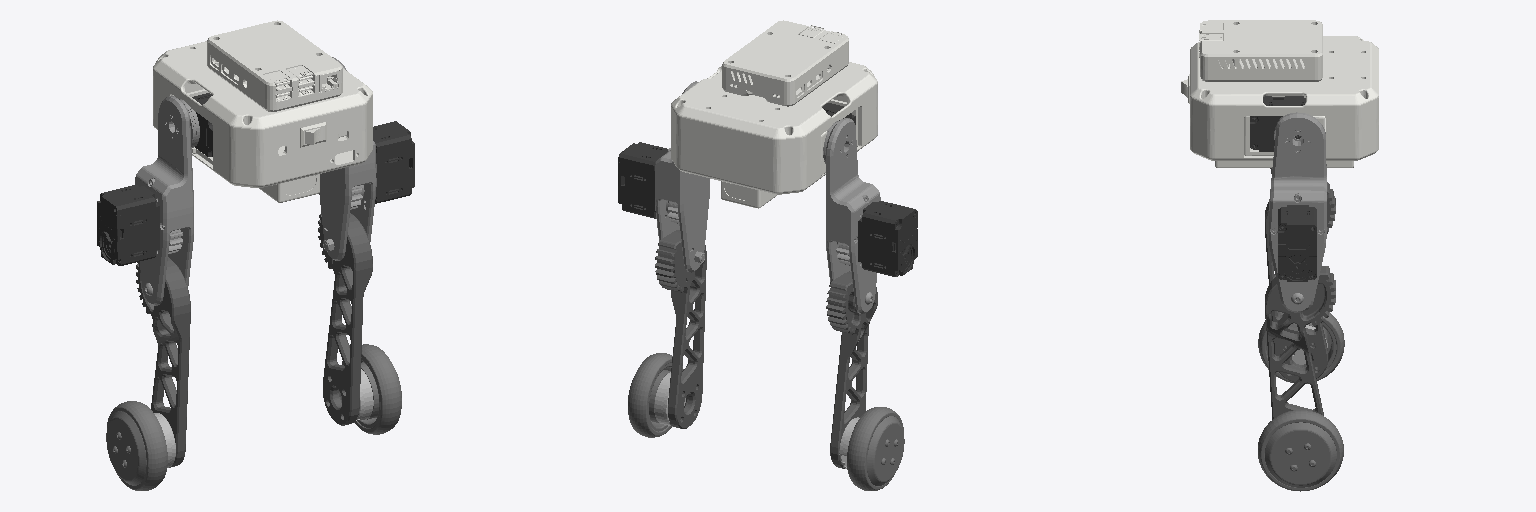
robot.urdf — bipedal_wheel:
<?xml version="1.0" encoding="utf-8"?>
<!-- This URDF was automatically created by SolidWorks to URDF Exporter! Originally created by [author] ([email redacted]) 
     Commit Version: 1.6.0-1-g15f4949  Build Version: 1.6.7594.29634
     For more information, please see http://wiki.ros.org/sw_urdf_exporter -->
<robot
  name="bipedal_wheel">
  <mujoco>
      <compiler
      meshdir = "../meshes/"
      balanceinertia = "true"
      discardvisual = "false" />
  </mujoco>
  
  <link name="world">
    <inertial>
      <mass value="0" />
      <inertia ixx="0" iyy="0" izz="0" ixy="0" ixz="0" iyz="0" />
    </inertial>
  </link>
  <link
    name="base_link">
    <inertial>
      <origin
        xyz="-0.043035 0.046782 -0.022543"
        rpy="0 0 0" />
      <mass
        value="0.8042" />
      <inertia
        ixx="0.00051005"
        ixy="7.4799E-07"
        ixz="1.5399E-07"
        iyy="0.00026894"
        iyz="1.1196E-06"
        izz="0.00074112" />
    </inertial>
    <visual>
      <origin
        xyz="0 0 0"
        rpy="0 0 0" />
      <geometry>
        <mesh
          filename="../meshes/base_link.STL" />
      </geometry>
      <material
        name="">
        <color
          rgba="0.92549 0.92549 0.90588 1" />
      </material>
    </visual>
    <collision>
      <origin
        xyz="0 0 0"
        rpy="0 0 0" />
      <geometry>
        <mesh
          filename="../meshes/base_link.STL" />
      </geometry>
    </collision>
  </link>

  <joint name="floating_base" type="floating">
    <parent link="world" />
    <child link="base_link" />
  </joint>

  <link
    name="FixMotor1">
    <inertial>
      <origin
        xyz="0.010976 -0.023825 1.6242E-05"
        rpy="0 0 0" />
      <mass
        value="0.0548" />
      <inertia
        ixx="9.9449E-06"
        ixy="1.213E-08"
        ixz="-5.3186E-10"
        iyy="4.0845E-06"
        iyz="3.4715E-09"
        izz="8.4884E-06" />
    </inertial>
    <visual>
      <origin
        xyz="0 0 0"
        rpy="0 0 0" />
      <geometry>
        <mesh
          filename="package://bipedal10.2/meshes/FixMotor1.STL" />
      </geometry>
      <material
        name="">
        <color
          rgba="0.29804 0.29804 0.29804 1" />
      </material>
    </visual>
    <collision>
      <origin
        xyz="0 0 0"
        rpy="0 0 0" />
      <geometry>
        <mesh
          filename="package://bipedal10.2/meshes/FixMotor1.STL" />
      </geometry>
    </collision>
  </link>
  <joint
    name="fix1"
    type="fixed">
    <origin
      xyz="-0.092323 0.070189 -0.020612"
      rpy="0 0 0" />
    <parent
      link="base_link" />
    <child
      link="FixMotor1" />
    <axis
      xyz="0 0 0" />
  </joint>
  <link
    name="FixMotor3">
    <inertial>
      <origin
        xyz="1.6242E-05 -0.023825 -0.010976"
        rpy="0 0 0" />
      <mass
        value="0.0548" />
      <inertia
        ixx="8.4884E-06"
        ixy="3.4715E-09"
        ixz="5.3186E-10"
        iyy="4.0845E-06"
        iyz="-1.213E-08"
        izz="9.9449E-06" />
    </inertial>
    <visual>
      <origin
        xyz="0 0 0"
        rpy="0 0 0" />
      <geometry>
        <mesh
          filename="package://bipedal10.2/meshes/FixMotor3.STL" />
      </geometry>
      <material
        name="">
        <color
          rgba="0.29804 0.29804 0.29804 1" />
      </material>
    </visual>
    <collision>
      <origin
        xyz="0 0 0"
        rpy="0 0 0" />
      <geometry>
        <mesh
          filename="package://bipedal10.2/meshes/FixMotor3.STL" />
      </geometry>
    </collision>
  </link>
  <joint
    name="fix3"
    type="fixed">
    <origin
      xyz="0.0060771 0.070189 -0.020612"
      rpy="0 1.5708 0" />
    <parent
      link="base_link" />
    <child
      link="FixMotor3" />
    <axis
      xyz="0 0 0" />
  </joint>
  <link
    name="R1">
    <inertial>
      <origin
        xyz="0.00025807 -0.0022112 -0.054813"
        rpy="0 0 0" />
      <mass
        value="0.044" />
      <inertia
        ixx="5.9272E-05"
        ixy="-9.8922E-10"
        ixz="-1.0171E-06"
        iyy="6.6118E-05"
        iyz="-8.6352E-08"
        izz="7.9954E-06" />
    </inertial>
    <visual>
      <origin
        xyz="0 0 0"
        rpy="0 0 0" />
      <geometry>
        <mesh
          filename="package://bipedal10.2/meshes/R1.STL" />
      </geometry>
      <material
        name="">
        <color
          rgba="0.62745 0.62745 0.62745 1" />
      </material>
    </visual>
    <collision>
      <origin
        xyz="0 0 0"
        rpy="0 0 0" />
      <geometry>
        <mesh
          filename="package://bipedal10.2/meshes/R1.STL" />
      </geometry>
    </collision>
  </link>
  <joint
    name="R1"
    type="revolute">
    <origin
      xyz="0.024227 0.059189 -0.020612"
      rpy="0 0 1.5708" />
    <parent
      link="base_link" />
    <child
      link="R1" />
    <axis
      xyz="0 1 0" />
    <limit
      lower="0"
      upper="0"
      effort="0"
      velocity="0" />
  </joint>
  <link
    name="FixMotor4">
    <inertial>
      <origin
        xyz="1.5744E-05 -0.023378 -0.010388"
        rpy="0 0 0" />
      <mass
        value="0.0548" />
      <inertia
        ixx="8.5302E-06"
        ixy="3.4485E-09"
        ixz="5.3228E-10"
        iyy="4.1264E-06"
        iyz="-1.2131E-08"
        izz="1.0022E-05" />
    </inertial>
    <visual>
      <origin
        xyz="0 0 0"
        rpy="0 0 0" />
      <geometry>
        <mesh
          filename="package://bipedal10.2/meshes/FixMotor4.STL" />
      </geometry>
      <material
        name="">
        <color
          rgba="0.29804 0.29804 0.29804 1" />
      </material>
    </visual>
    <collision>
      <origin
        xyz="0 0 0"
        rpy="0 0 0" />
      <geometry>
        <mesh
          filename="package://bipedal10.2/meshes/FixMotor4.STL" />
      </geometry>
    </collision>
  </link>
  <joint
    name="fix4"
    type="fixed">
    <origin
      xyz="-0.00028834 -0.024 -0.0905"
      rpy="-1.5708 0.0031861 0" />
    <parent
      link="R1" />
    <child
      link="FixMotor4" />
    <axis
      xyz="0 0 0" />
  </joint>
  <link
    name="R2">
    <inertial>
      <origin
        xyz="9.9185E-05 0.0067556 -0.044274"
        rpy="0 0 0" />
      <mass
        value="0.0272" />
      <inertia
        ixx="0.00010024"
        ixy="4.8276E-08"
        ixz="-1.7347E-06"
        iyy="0.00010679"
        iyz="2.8305E-06"
        izz="7.7372E-06" />
    </inertial>
    <visual>
      <origin
        xyz="0 0 0"
        rpy="0 0 0" />
      <geometry>
        <mesh
          filename="package://bipedal10.2/meshes/R2.STL" />
      </geometry>
      <material
        name="">
        <color
          rgba="0.43137 0.43137 0.43137 1" />
      </material>
    </visual>
    <collision>
      <origin
        xyz="0 0 0"
        rpy="0 0 0" />
      <geometry>
        <mesh
          filename="package://bipedal10.2/meshes/R2.STL" />
      </geometry>
    </collision>
  </link>
  <joint
    name="R2"
    type="revolute">
    <origin
      xyz="-0.00038233 -0.0108 -0.12"
      rpy="0 0 0" />
    <parent
      link="R1" />
    <child
      link="R2" />
    <axis
      xyz="0 -1 0" />
    <limit
      lower="0"
      upper="0"
      effort="0"
      velocity="0" />
  </joint>
  <link
    name="R3">
    <inertial>
      <origin
        xyz="0.022331 0.00037346 7.3703E-06"
        rpy="0 0 0" />
      <mass
        value="0.0545" />
      <inertia
        ixx="1.1678E-06"
        ixy="-3.2431E-09"
        ixz="5.9565E-11"
        iyy="6.3638E-07"
        iyz="2.1171E-08"
        izz="5.5809E-07" />
    </inertial>
    <visual>
      <origin
        xyz="0 0 0"
        rpy="0 0 0" />
      <geometry>
        <mesh
          filename="package://bipedal10.2/meshes/R3.STL" />
      </geometry>
      <material
        name="">
        <color
          rgba="0.75294 0.75294 0.75294 1" />
      </material>
    </visual>
    <collision>
      <origin
        xyz="0 0 0"
        rpy="0 0 0" />
      <geometry>
        <mesh
          filename="package://bipedal10.2/meshes/R3.STL" />
      </geometry>
    </collision>
  </link>
  <joint
    name="R3"
    type="fixed">
    <origin
      xyz="0.0024572 -0.0235 -0.11997"
      rpy="2.1049 0 1.5708" />
    <parent
      link="R2" />
    <child
      link="R3" />
    <axis
      xyz="0 0 0" />
  </joint>
  <link
    name="R4">
    <inertial>
      <origin
        xyz="-5.703E-12 0.0065924 2.0318E-12"
        rpy="0 0 0" />
      <mass
        value="0.0545" />
      <inertia
        ixx="1.3633E-05"
        ixy="1.1132E-16"
        ixz="8.8032E-18"
        iyy="2.4575E-05"
        iyz="1.8442E-16"
        izz="1.3633E-05" />
    </inertial>
    <visual>
      <origin
        xyz="0 0 0"
        rpy="0 0 0" />
      <geometry>
        <mesh
          filename="package://bipedal10.2/meshes/R4.STL" />
      </geometry>
      <material
        name="">
        <color
          rgba="0.50196 0.50196 0.50196 1" />
      </material>
    </visual>
    <collision>
      <origin
        xyz="0 0 0"
        rpy="0 0 0" />
      <geometry>
        <mesh
          filename="package://bipedal10.2/meshes/R4.STL" />
      </geometry>
    </collision>
  </link>
  <joint
    name="R4"
    type="revolute">
    <origin
      xyz="0 0 0"
      rpy="-3.1416 -1.0367 1.5708" />
    <parent
      link="R3" />
    <child
      link="R4" />
    <axis
      xyz="0 1 0" />
    <limit
      lower="0"
      upper="0"
      effort="0"
      velocity="0" />
  </joint>
  <link
    name="L1">
    <inertial>
      <origin
        xyz="0.00016054 0.0022041 -0.054814"
        rpy="0 0 0" />
      <mass
        value="0.044" />
      <inertia
        ixx="5.9268E-05"
        ixy="1.1414E-09"
        ixz="-1.1084E-06"
        iyy="6.6118E-05"
        iyz="8.6351E-08"
        izz="7.9992E-06" />
    </inertial>
    <visual>
      <origin
        xyz="0 0 0"
        rpy="0 0 0" />
      <geometry>
        <mesh
          filename="package://bipedal10.2/meshes/L1.STL" />
      </geometry>
      <material
        name="">
        <color
          rgba="0.62745 0.62745 0.62745 1" />
      </material>
    </visual>
    <collision>
      <origin
        xyz="0 0 0"
        rpy="0 0 0" />
      <geometry>
        <mesh
          filename="package://bipedal10.2/meshes/L1.STL" />
      </geometry>
    </collision>
  </link>
  <joint
    name="L1"
    type="revolute">
    <origin
      xyz="-0.11057 0.059189 -0.020612"
      rpy="0 0 1.5708" />
    <parent
      link="base_link" />
    <child
      link="L1" />
    <axis
      xyz="0 1 0" />
    <limit
      lower="0"
      upper="0"
      effort="0"
      velocity="0" />
  </joint>
  <link
    name="FixMotor2">
    <inertial>
      <origin
        xyz="1.5744E-05 -0.023378 -0.010388"
        rpy="0 0 0" />
      <mass
        value="0.0548" />
      <inertia
        ixx="8.5302E-06"
        ixy="3.4485E-09"
        ixz="5.3228E-10"
        iyy="4.1264E-06"
        iyz="-1.2131E-08"
        izz="1.0022E-05" />
    </inertial>
    <visual>
      <origin
        xyz="0 0 0"
        rpy="0 0 0" />
      <geometry>
        <mesh
          filename="package://bipedal10.2/meshes/FixMotor2.STL" />
      </geometry>
      <material
        name="">
        <color
          rgba="0.29804 0.29804 0.29804 1" />
      </material>
    </visual>
    <collision>
      <origin
        xyz="0 0 0"
        rpy="0 0 0" />
      <geometry>
        <mesh
          filename="package://bipedal10.2/meshes/FixMotor2.STL" />
      </geometry>
    </collision>
  </link>
  <joint
    name="fix2"
    type="fixed">
    <origin
      xyz="-0.00044938 0.024 -0.090499"
      rpy="-1.5708 -0.0049655 3.1416" />
    <parent
      link="L1" />
    <child
      link="FixMotor2" />
    <axis
      xyz="0 0 0" />
  </joint>
  <link
    name="L2">
    <inertial>
      <origin
        xyz="0.00036985 -0.0067556 -0.044273"
        rpy="0 0 0" />
      <mass
        value="0.0272" />
      <inertia
        ixx="0.00010025"
        ixy="-3.0964E-08"
        ixz="-1.1689E-06"
        iyy="0.00010679"
        iyz="-2.8308E-06"
        izz="7.7195E-06" />
    </inertial>
    <visual>
      <origin
        xyz="0 0 0"
        rpy="0 0 0" />
      <geometry>
        <mesh
          filename="package://bipedal10.2/meshes/L2.STL" />
      </geometry>
      <material
        name="">
        <color
          rgba="0.43137 0.43137 0.43137 1" />
      </material>
    </visual>
    <collision>
      <origin
        xyz="0 0 0"
        rpy="0 0 0" />
      <geometry>
        <mesh
          filename="package://bipedal10.2/meshes/L2.STL" />
      </geometry>
    </collision>
  </link>
  <joint
    name="L2"
    type="revolute">
    <origin
      xyz="-0.00059586 0.0108 -0.12"
      rpy="0 0 0" />
    <parent
      link="L1" />
    <child
      link="L2" />
    <axis
      xyz="0 -1 0" />
    <limit
      lower="0"
      upper="0"
      effort="0"
      velocity="0" />
  </joint>
  <link
    name="L3">
    <inertial>
      <origin
        xyz="0.022331 0.00037346 -7.3702E-06"
        rpy="0 0 0" />
      <mass
        value="0.0545" />
      <inertia
        ixx="1.1678E-06"
        ixy="-3.2431E-09"
        ixz="-5.9565E-11"
        iyy="6.3638E-07"
        iyz="-2.1171E-08"
        izz="5.5809E-07" />
    </inertial>
    <visual>
      <origin
        xyz="0 0 0"
        rpy="0 0 0" />
      <geometry>
        <mesh
          filename="package://bipedal10.2/meshes/L3.STL" />
      </geometry>
      <material
        name="">
        <color
          rgba="0.75294 0.75294 0.75294 1" />
      </material>
    </visual>
    <collision>
      <origin
        xyz="0 0 0"
        rpy="0 0 0" />
      <geometry>
        <mesh
          filename="package://bipedal10.2/meshes/L3.STL" />
      </geometry>
    </collision>
  </link>
  <joint
    name="L3"
    type="fixed">
    <origin
      xyz="0.0031907 0.0235 -0.11996"
      rpy="2.735 0 -1.5708" />
    <parent
      link="L2" />
    <child
      link="L3" />
    <axis
      xyz="0 0 0" />
  </joint>
  <link
    name="L4">
    <inertial>
      <origin
        xyz="3.8845E-12 -0.0065924 -5.6056E-12"
        rpy="0 0 0" />
      <mass
        value="0.0545" />
      <inertia
        ixx="1.3633E-05"
        ixy="-2.6607E-16"
        ixz="1.6295E-18"
        iyy="2.4575E-05"
        iyz="2.4148E-16"
        izz="1.3633E-05" />
    </inertial>
    <visual>
      <origin
        xyz="0 0 0"
        rpy="0 0 0" />
      <geometry>
        <mesh
          filename="package://bipedal10.2/meshes/L4.STL" />
      </geometry>
      <material
        name="">
        <color
          rgba="0.50196 0.50196 0.50196 1" />
      </material>
    </visual>
    <collision>
      <origin
        xyz="0 0 0"
        rpy="0 0 0" />
      <geometry>
        <mesh
          filename="package://bipedal10.2/meshes/L4.STL" />
      </geometry>
    </collision>
  </link>
  <joint
    name="L4"
    type="revolute">
    <origin
      xyz="0 0 0"
      rpy="3.1416 0.40658 -1.5708" />
    <parent
      link="L3" />
    <child
      link="L4" />
    <axis
      xyz="0 1 0" />
    <limit
      lower="0"
      upper="0"
      effort="0"
      velocity="0" />
  </joint>
</robot>

--- Render facts (derived) ---
Views: 3 orthographic renders of the robot side by side, from view 1: azimuth 30°, elevation 25°; view 2: azimuth 150°, elevation 25°; view 3: azimuth 270°, elevation 25°.
Model bipedal_wheel with 14 links and 13 joints (6 revolute, 6 fixed, 1 floating), rooted at world, posed every joint at zero.
Links seen in each view (by area): view 1: base_link, L1, R2, L2, FixMotor2, L4, R1, FixMotor4, R4, FixMotor1, R3; view 2: base_link, L1, R2, L2, R1, FixMotor2, L4, FixMotor4, R4, R3; view 3: base_link, R1, R4, R2, FixMotor4, L2, L4, FixMotor3.
Boxes of the visible links, x1,y1,x2,y2 form: base_link: [153, 20, 372, 202]; L1: [135, 96, 199, 305]; R2: [318, 213, 372, 425]; L2: [136, 257, 190, 467]; FixMotor2: [97, 185, 159, 265]; L4: [106, 401, 167, 490]; R1: [319, 57, 376, 260]; FixMotor4: [373, 121, 414, 203]; R4: [342, 344, 401, 434]; FixMotor1: [192, 93, 212, 156]; R3: [340, 369, 373, 420]; base_link: [671, 20, 877, 208]; L1: [823, 118, 880, 313]; R2: [655, 230, 706, 428]; L2: [826, 271, 877, 468]; R1: [655, 81, 709, 272]; FixMotor2: [858, 201, 917, 276]; L4: [847, 407, 904, 490]; FixMotor4: [618, 142, 667, 218]; R4: [628, 353, 683, 437]; R3: [654, 372, 685, 426]; base_link: [1181, 20, 1378, 167]; R1: [1269, 112, 1326, 312]; R4: [1258, 410, 1343, 491]; R2: [1265, 266, 1335, 419]; FixMotor4: [1278, 205, 1316, 281]; L2: [1265, 182, 1335, 381]; L4: [1258, 311, 1344, 383]; FixMotor3: [1250, 96, 1305, 151].
Size in the robot's own frame: 0.2394 by 0.1468 by 0.3253 metres.
Meshes: 13 distinct files referenced, 13 mesh visuals loaded (13 binary STL).